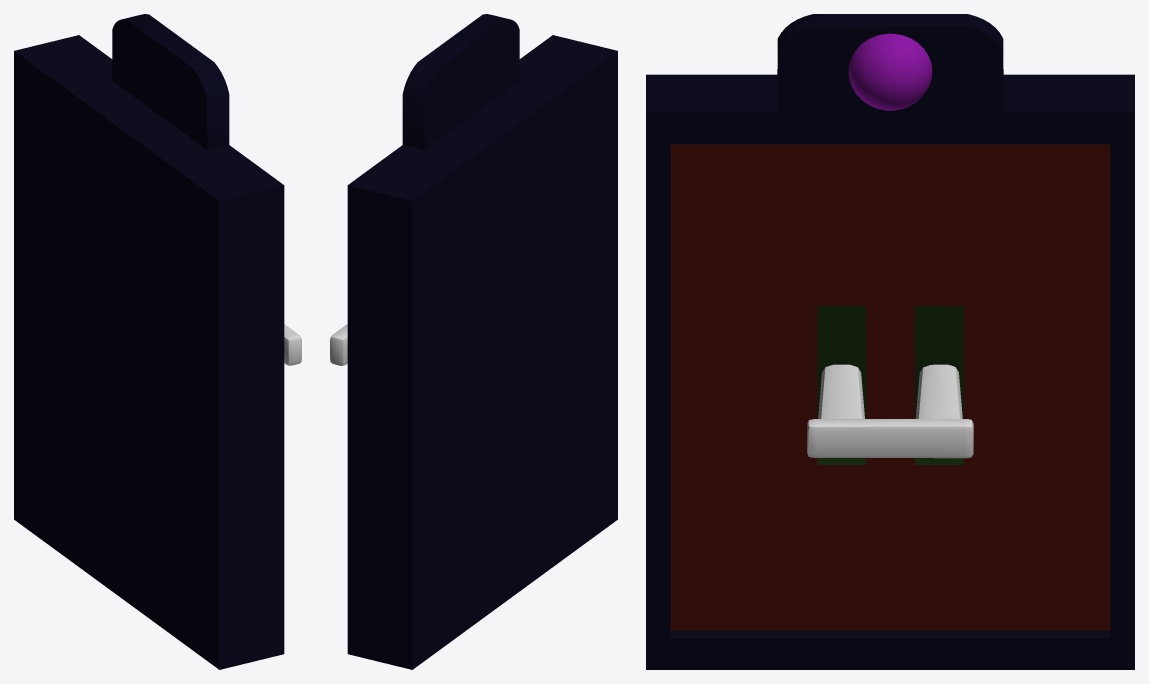
Rendered from Fusible.fbx.
3 renders of one model, left to right at view 1: azimuth 30°, elevation 25°; view 2: azimuth 150°, elevation 25°; view 3: azimuth 270°, elevation 25°, orthographic. The views are drawn at different scales.
Parts seen in each view (by area): view 1: Fusible (×2); view 2: Fusible (×2); view 3: Fusible (×2).
Part boxes in pixels (left/top/right/bottom): Fusible (×2): left=14, top=14, right=301, bottom=669; Fusible (×2): left=330, top=14, right=617, bottom=669; Fusible (×2): left=646, top=14, right=1134, bottom=669.
Bounding box in the file's own units: 0.336 × 1.14 × 0.7881.
